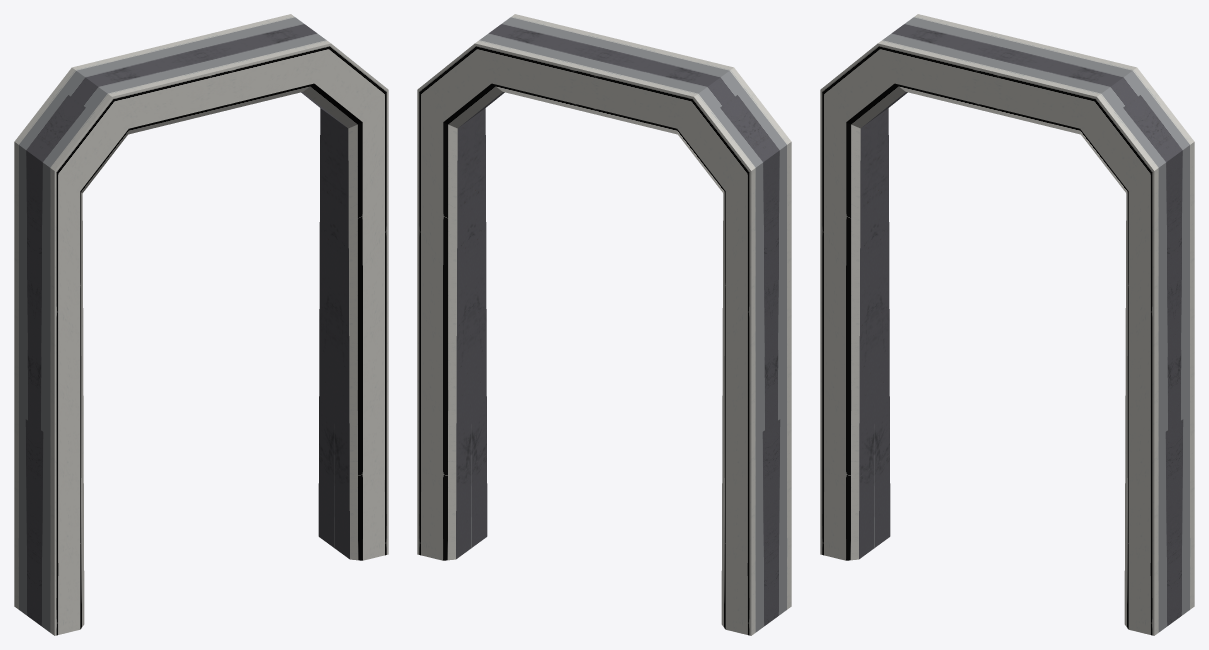
The model's file is G_Env_Arch_DoorFrame_00_Grate.fbx.
The picture shows the model from 3 angles, left to right: view 1: azimuth 30°, elevation 25°; view 2: azimuth 150°, elevation 25°; view 3: azimuth 330°, elevation 25°; orthographic projection.
Visible parts, largest first — view 1: G_Env_Arch_DoorFrame_00_Grate; view 2: G_Env_Arch_DoorFrame_00_Grate; view 3: G_Env_Arch_DoorFrame_00_Grate.
Boxes of the visible parts, <box> form: G_Env_Arch_DoorFrame_00_Grate: <box>14,14,388,635</box>; G_Env_Arch_DoorFrame_00_Grate: <box>417,14,791,635</box>; G_Env_Arch_DoorFrame_00_Grate: <box>820,14,1194,635</box>.
Bounding box in the file's own units: 500 × 751 × 104.
